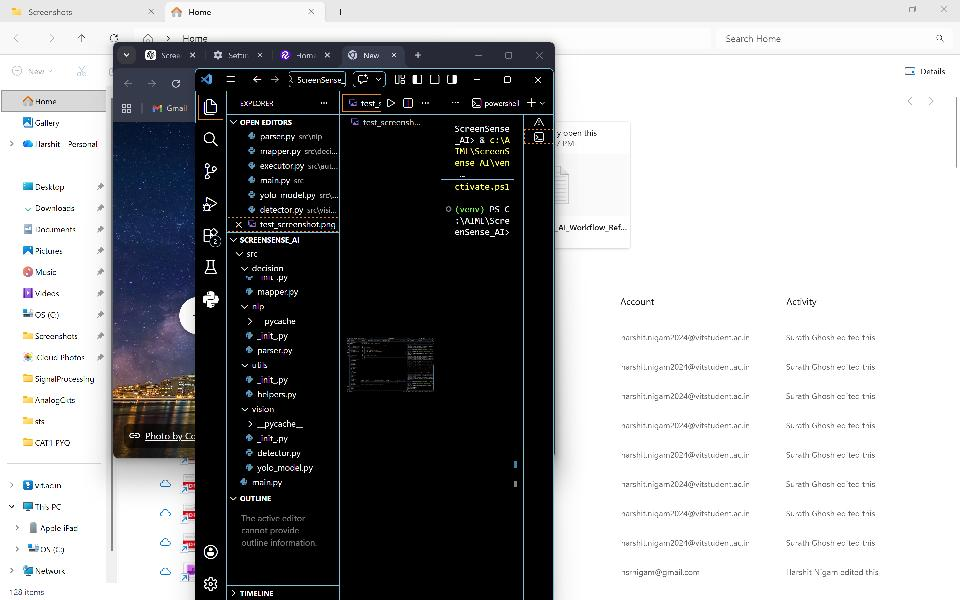close_button: (530, 45, 548, 65), (934, 1, 954, 17), (530, 71, 547, 89)
maximize_button: (499, 44, 518, 66), (903, 1, 924, 20), (500, 71, 516, 89)
minimize_button: (470, 44, 487, 67), (874, 1, 892, 20), (469, 70, 485, 89)
